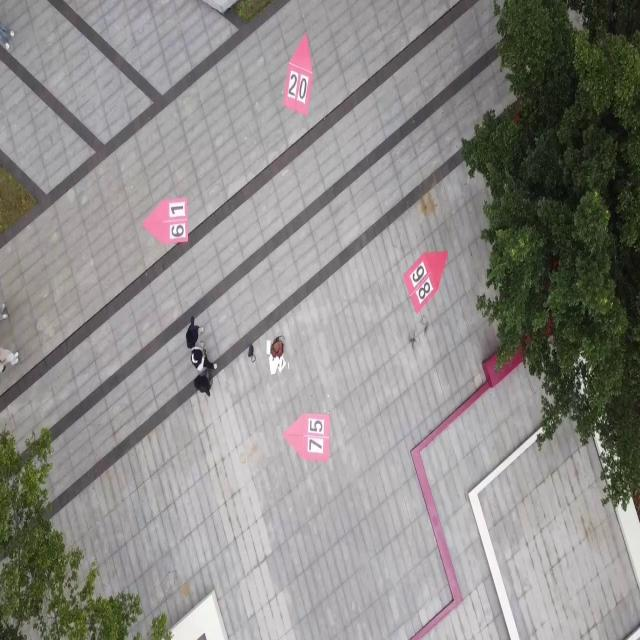-sign-: (403, 250, 448, 312), (284, 32, 314, 117), (283, 412, 331, 462), (142, 198, 188, 245)
